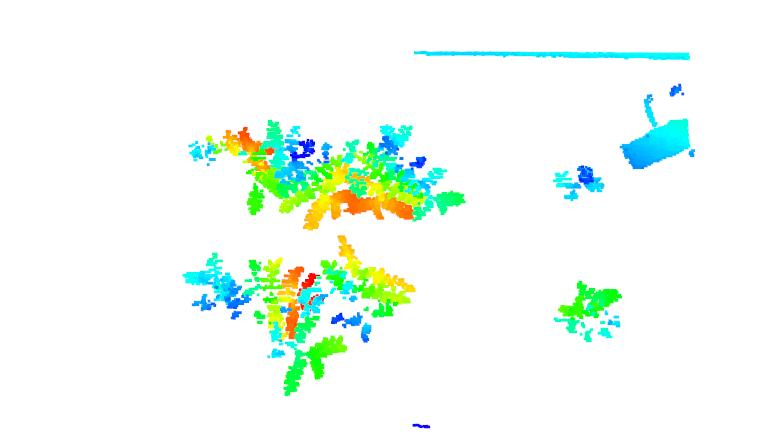chickpea: (256, 259, 349, 399), (350, 122, 466, 223), (315, 231, 412, 340), (184, 119, 283, 215), (284, 124, 351, 224), (171, 250, 251, 320), (556, 279, 622, 344), (548, 161, 609, 202)
